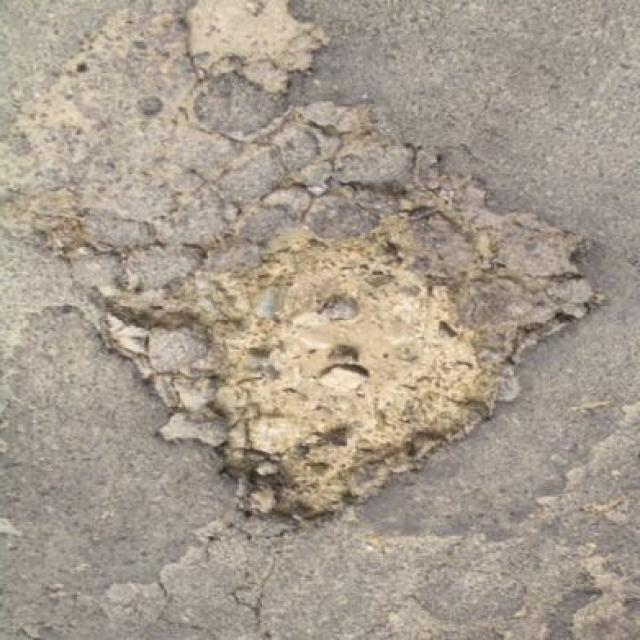pothole: (92, 91, 618, 532)
